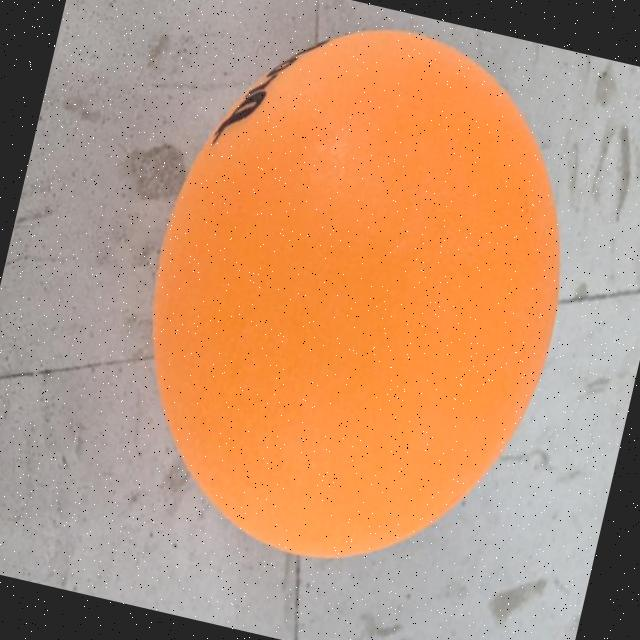ping-pong-ball: (94, 0, 626, 612)
